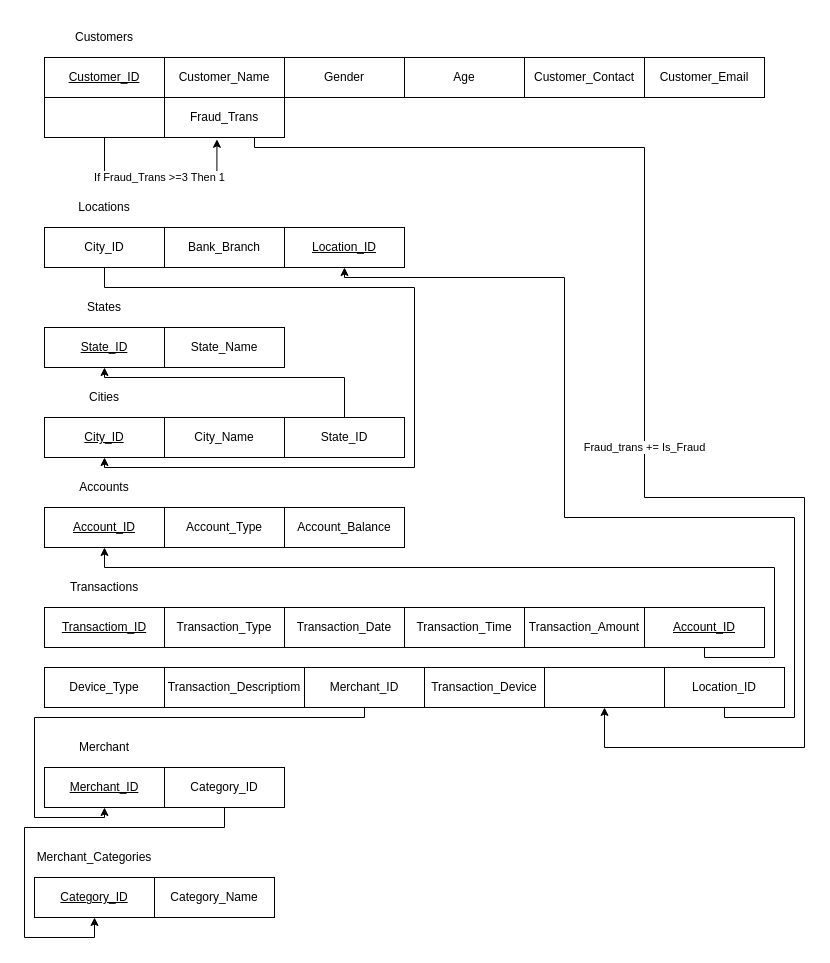
Some shapes in this 830 by 963 pixel diagram are drawn without their labels. The shapes that lost their labels are listed below. From the top down, each one's centre as x and y in pixels, then its label:
point (104, 117): Is_Banned
point (604, 687): Is_Fraud
